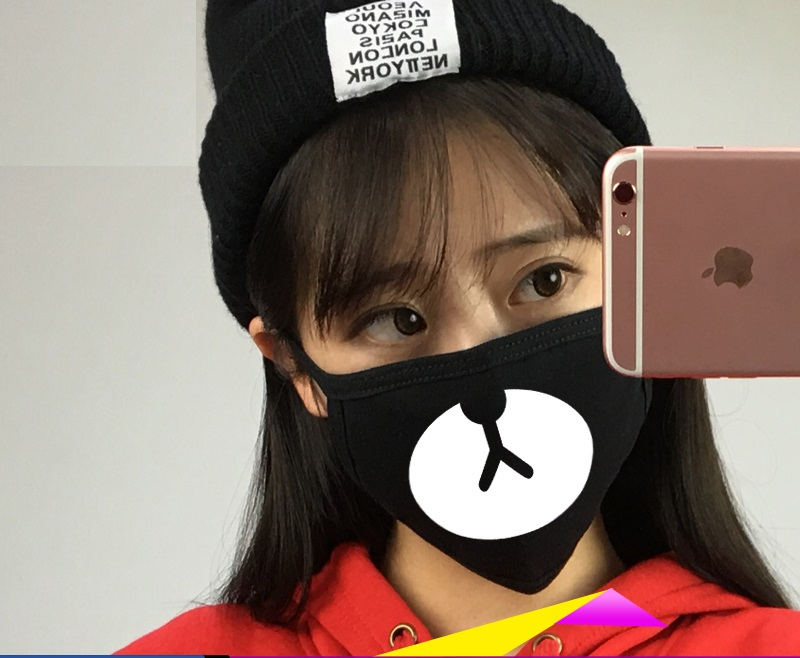face_mask: (305, 144, 635, 540)
